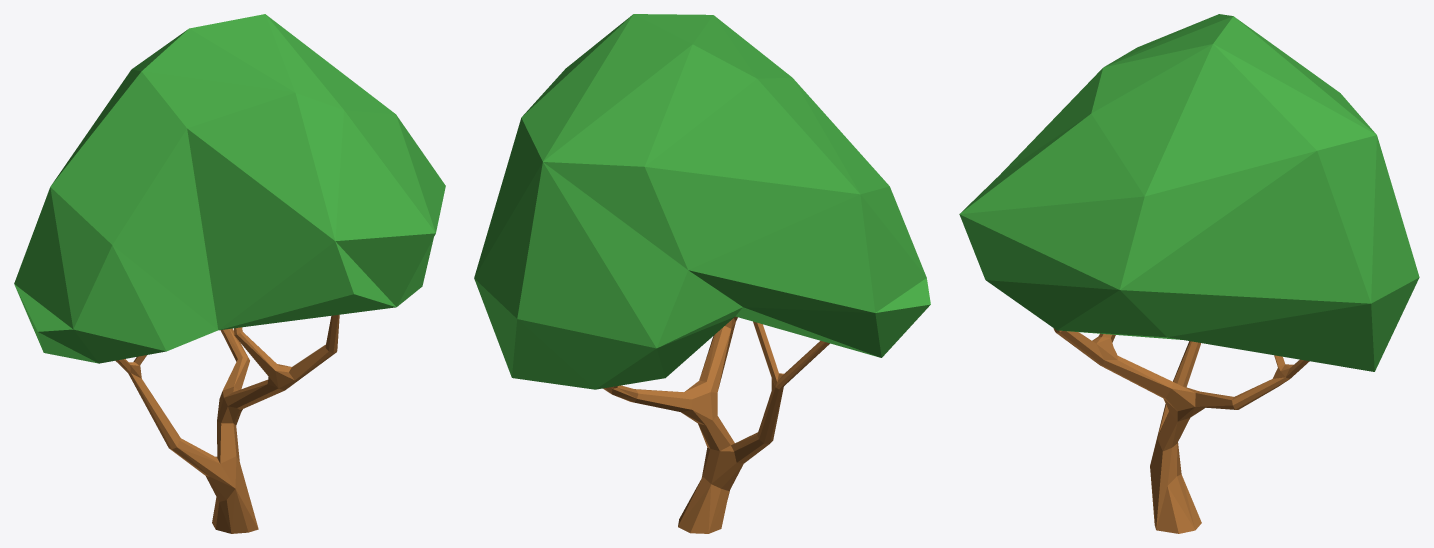
File: tree_13.glb
The picture shows the model from 3 angles, left to right: view 1: azimuth 30°, elevation 25°; view 2: azimuth 150°, elevation 25°; view 3: azimuth 270°, elevation 25°; orthographic projection. The views are drawn at different scales.
Parts seen in each view (by area): view 1: Lowpoly_Tree_13_Material.002_0, Lowpoly_Tree_13_Material_0; view 2: Lowpoly_Tree_13_Material.002_0, Lowpoly_Tree_13_Material_0; view 3: Lowpoly_Tree_13_Material.002_0, Lowpoly_Tree_13_Material_0.
Boxes of the visible parts, x1,y1,x2,y2 form: Lowpoly_Tree_13_Material.002_0: (14,14,445,363); Lowpoly_Tree_13_Material_0: (115,314,339,533); Lowpoly_Tree_13_Material.002_0: (474,14,930,389); Lowpoly_Tree_13_Material_0: (603,316,829,533); Lowpoly_Tree_13_Material.002_0: (959,14,1419,371); Lowpoly_Tree_13_Material_0: (1053,328,1309,533).
Size of the model in its own units: 0.5071 by 0.6037 by 0.4999.
